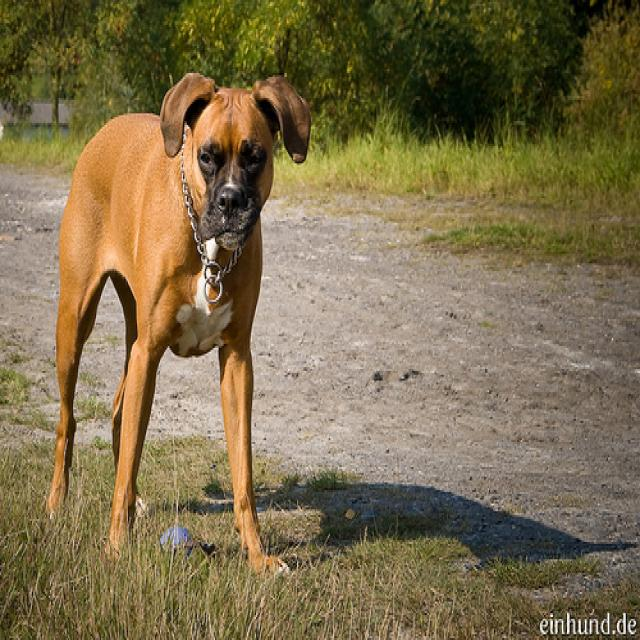dog-boxer: (42, 63, 310, 577)
